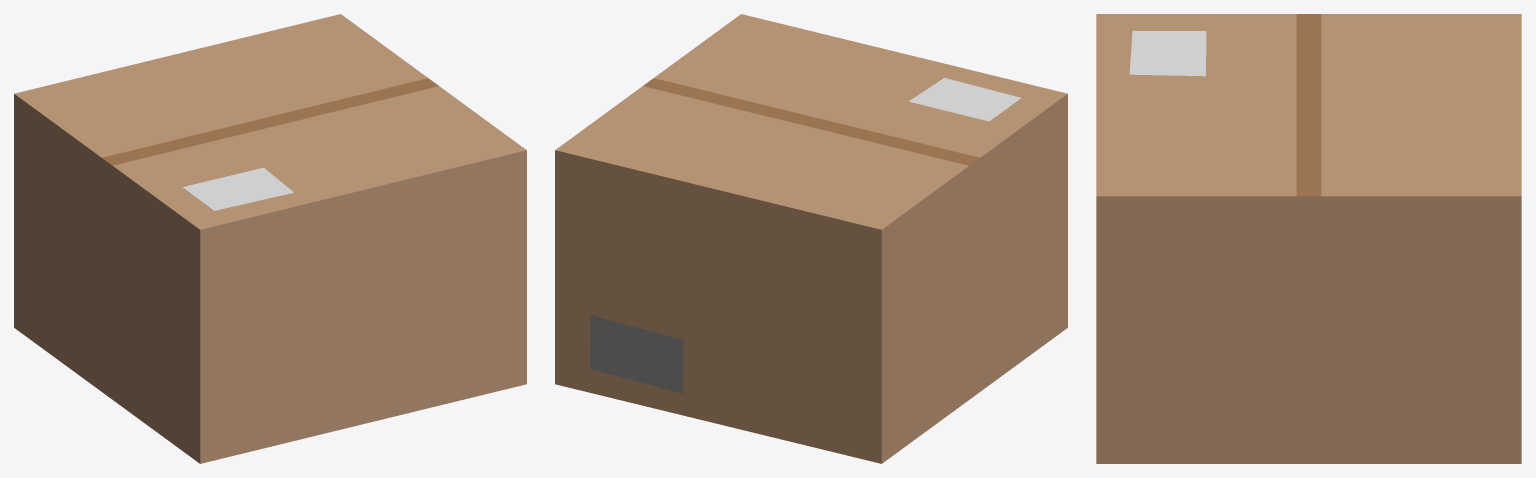
File: PostBox_01.fbx
3 renders of one model, left to right at view 1: azimuth 30°, elevation 25°; view 2: azimuth 150°, elevation 25°; view 3: azimuth 270°, elevation 25°, orthographic. The views are drawn at different scales.
Parts seen in each view (by area): view 1: PostBox_01; view 2: PostBox_01; view 3: PostBox_01.
Boxes of the visible parts, x1,y1,x2,y2 form: PostBox_01: [14, 14, 526, 463]; PostBox_01: [555, 14, 1067, 463]; PostBox_01: [1096, 14, 1521, 463].
Bounding box in the file's own units: 47.72 × 32.68 × 47.08.
